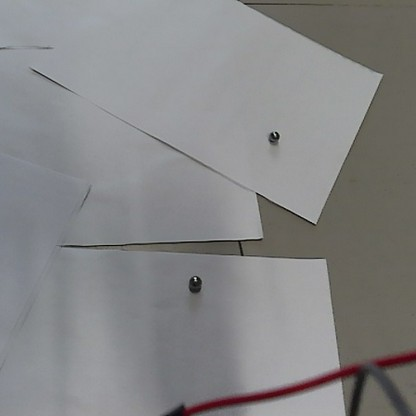ironball: (183, 271, 205, 293), (266, 127, 282, 142)
